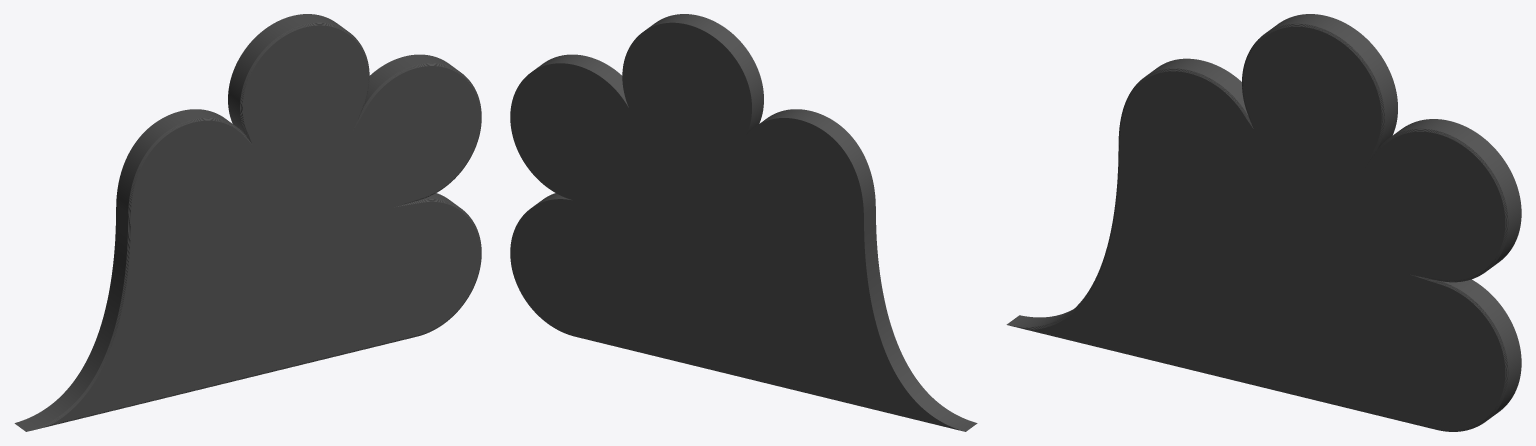
3 renders of one model, left to right at view 1: azimuth 30°, elevation 25°; view 2: azimuth 150°, elevation 25°; view 3: azimuth 330°, elevation 25°, orthographic. The views are drawn at different scales.
Bounding box in the file's own units: 0.5604 × 0.3991 × 0.0272.
1 material, 1 textured.
